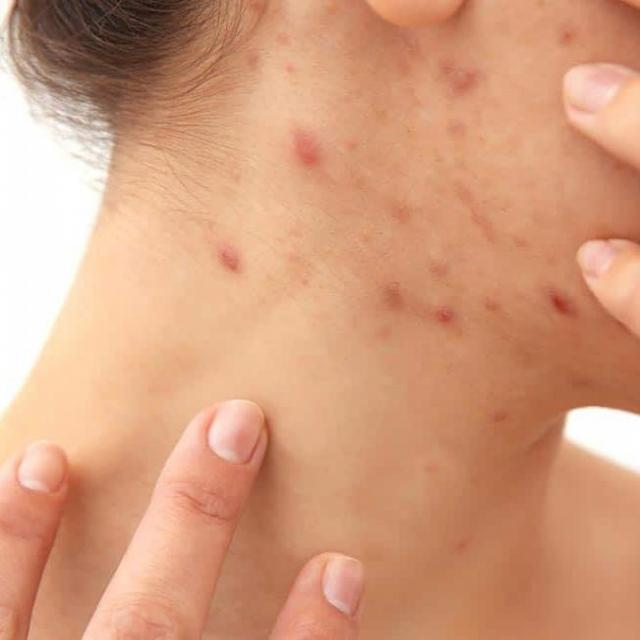blackheads: (376, 268, 414, 333), (436, 52, 480, 99), (284, 123, 328, 169), (544, 281, 581, 318), (214, 240, 243, 276), (428, 295, 459, 327), (391, 186, 412, 212), (558, 22, 580, 46)
